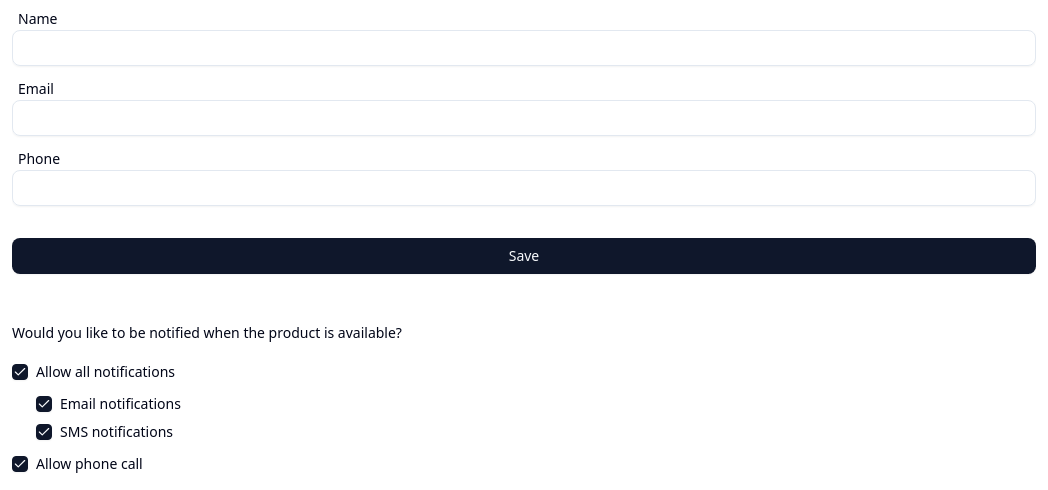
it: WaitListForm component tests › Permissions checkboxes tests › should uncheck all notifications checkbox when parent is unchecked
What coordinates should you click on to do the following:
click the checkbox named "All notifications" next to "Allow all notifications"
I would click on:
 (20, 372)
Its box is [12,364,28,380].
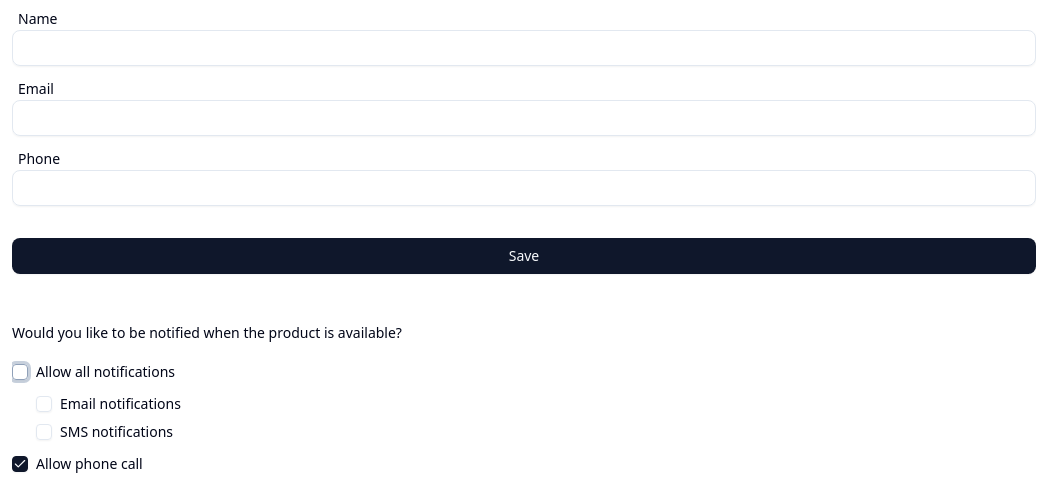
Expected: the checkbox named "All notifications" next to "Allow all notifications" is not checked, [12,364,28,380]
Expected: the checkbox named "email notifications" next to "Email notifications" is not checked, [36,396,52,412]
Expected: the checkbox named "sms notifications" next to "SMS notifications" is not checked, [36,424,52,440]
